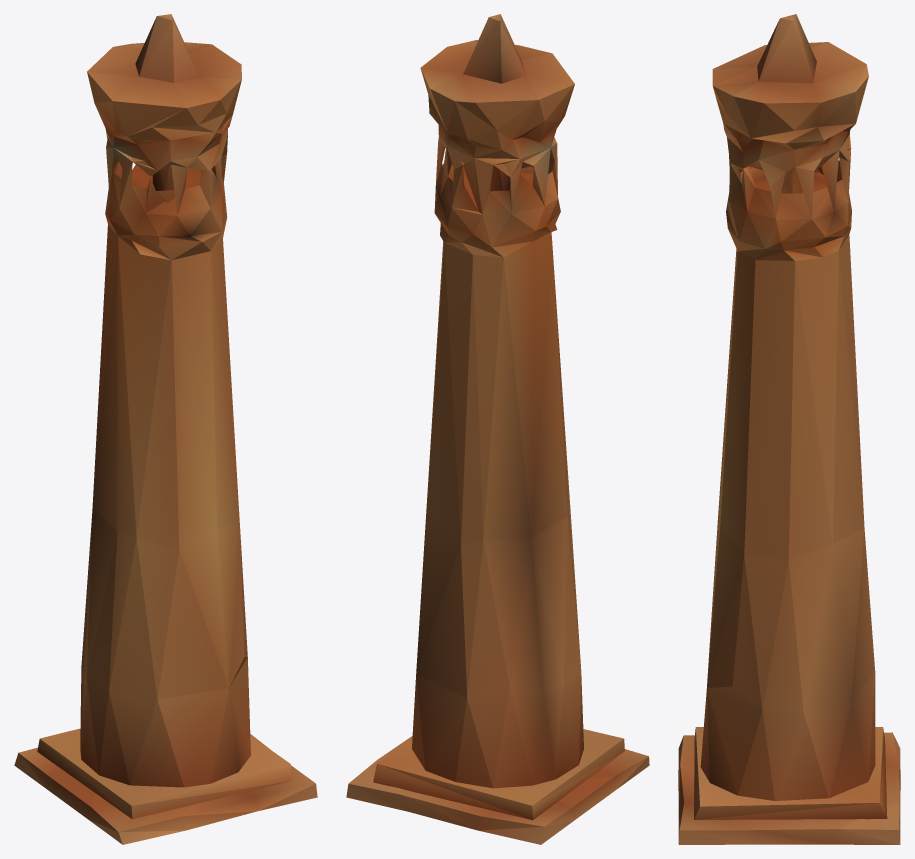
File: kalon_lo.glb
3 views of the same model, side by side, from view 1: azimuth 30°, elevation 25°; view 2: azimuth 150°, elevation 25°; view 3: azimuth 270°, elevation 25° (orthographic). The views are drawn at different scales.
Parts seen in each view (by area): view 1: geometry_0; view 2: geometry_0; view 3: geometry_0.
Part boxes in pixels (left/top/right/bottom): geometry_0: left=14, top=14, right=317, bottom=844; geometry_0: left=346, top=14, right=649, bottom=844; geometry_0: left=678, top=14, right=900, bottom=844.
Bounding box in the file's own units: 0.2544 × 0.9453 × 0.2436.
